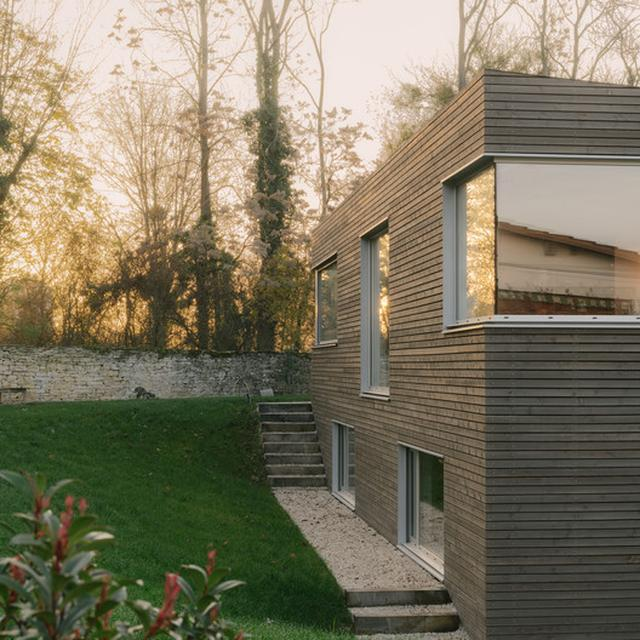building: (308, 67, 640, 640)
